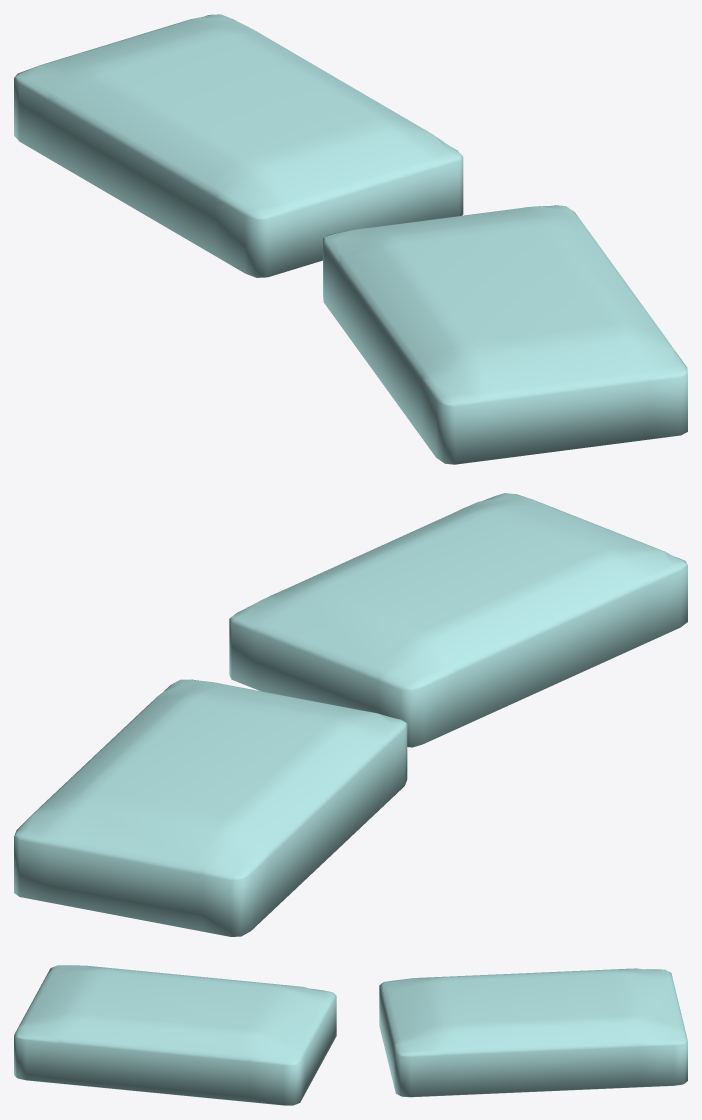
Rendered from Pillows 1.fbx.
3 renders of one model, top to bottom at view 1: azimuth 30°, elevation 25°; view 2: azimuth 150°, elevation 25°; view 3: azimuth 270°, elevation 25°, orthographic. The views are drawn at different scales.
Parts seen in each view (by area): view 1: Pillow_01, Pillow_02; view 2: Pillow_02, Pillow_01; view 3: Pillow_02, Pillow_01.
Boxes of the visible parts, bbox=[...] form: Pillow_01: bbox=[14, 14, 463, 277]; Pillow_02: bbox=[323, 205, 687, 464]; Pillow_02: bbox=[229, 493, 687, 747]; Pillow_01: bbox=[14, 679, 407, 936]; Pillow_02: bbox=[14, 965, 336, 1105]; Pillow_01: bbox=[379, 968, 687, 1097].
Bounding box in the file's own units: 84.38 × 22.46 × 241.
